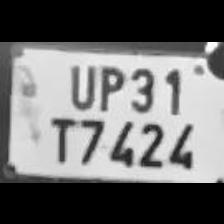1: (158, 60, 186, 114)
2: (134, 116, 164, 166)
3: (124, 62, 158, 113)
4: (164, 116, 198, 168), (104, 113, 136, 166)
7: (74, 111, 102, 165)
P: (93, 62, 126, 110)
T: (43, 109, 76, 163)
U: (64, 57, 96, 106)
